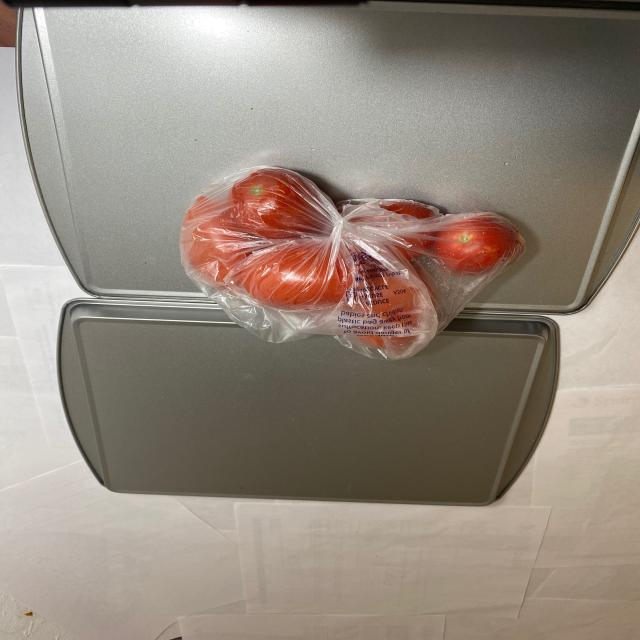tomato: (177, 169, 525, 356)
